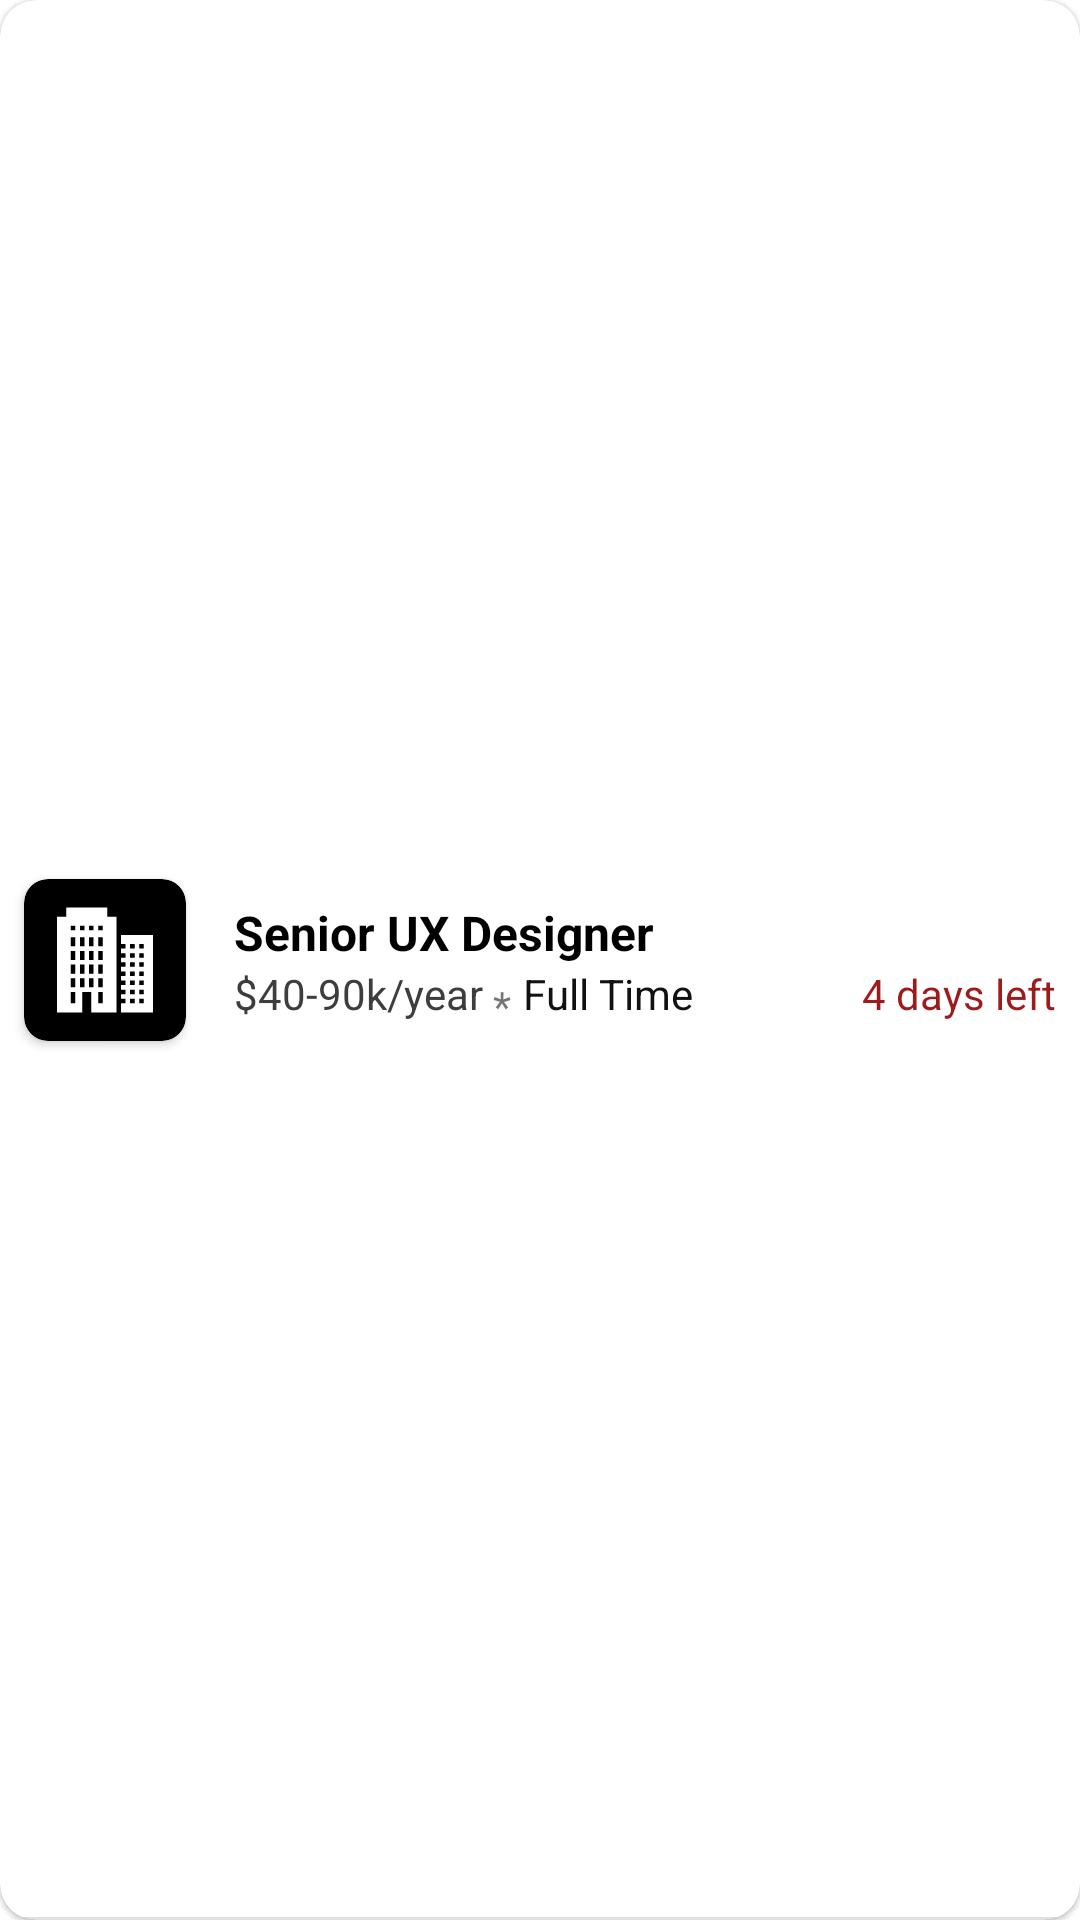

Icon bounding boxes for this 1080px x 1920px phone screenshot, format (x1, y1, x2, y2):
companysvgwhite: (24, 879, 186, 1041)
